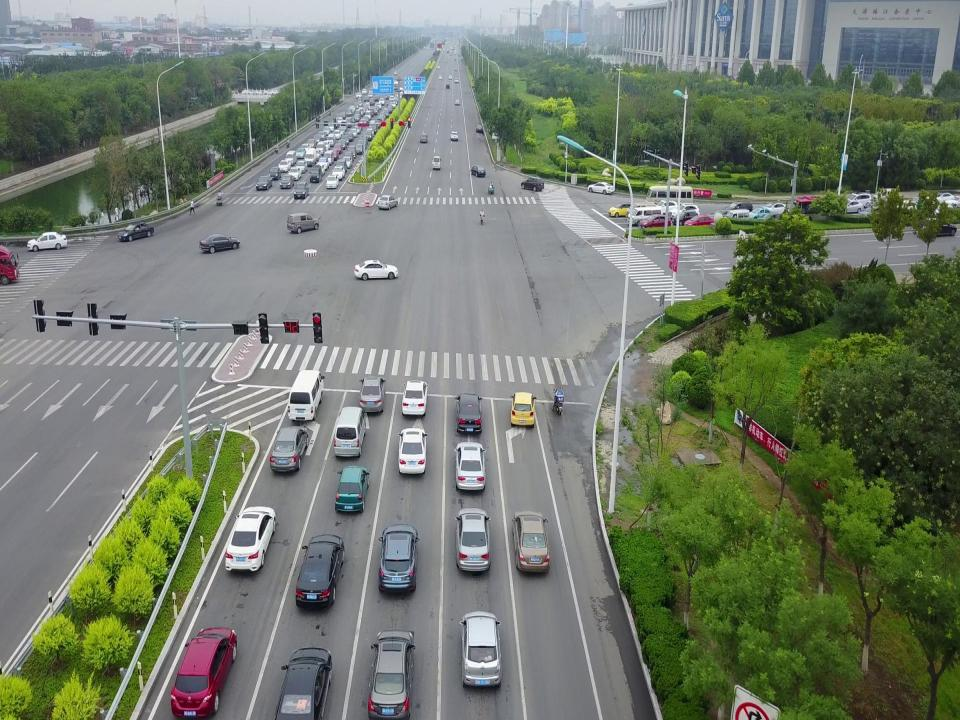bus: (645, 185, 693, 210)
car: (171, 627, 237, 718), (368, 629, 416, 720), (274, 646, 332, 720), (296, 534, 344, 611), (225, 506, 276, 573), (459, 611, 502, 688), (378, 523, 420, 594), (454, 507, 492, 571), (512, 510, 550, 573), (269, 425, 309, 472), (335, 466, 370, 514), (454, 441, 486, 491), (397, 428, 429, 475), (454, 393, 483, 434), (358, 375, 386, 414), (401, 379, 429, 417), (509, 391, 537, 428), (353, 260, 399, 282), (199, 233, 241, 254), (26, 231, 68, 252), (118, 221, 154, 242), (920, 218, 957, 237), (668, 204, 700, 224), (638, 214, 672, 232), (706, 209, 738, 228), (858, 204, 890, 222), (684, 213, 715, 231), (652, 198, 682, 216), (723, 201, 754, 218), (608, 202, 641, 217), (761, 202, 790, 219), (671, 210, 701, 226), (747, 207, 775, 224), (845, 192, 871, 210), (837, 199, 864, 216), (587, 180, 614, 195), (520, 177, 544, 192), (378, 194, 398, 211), (255, 174, 273, 190), (293, 181, 309, 199), (309, 164, 323, 183), (331, 164, 345, 181), (280, 174, 294, 189), (325, 174, 339, 189), (268, 166, 282, 181), (294, 159, 308, 174), (470, 165, 486, 178), (288, 166, 302, 180), (316, 156, 330, 170), (334, 158, 348, 172), (278, 158, 291, 172), (357, 135, 369, 148), (341, 155, 352, 169), (295, 146, 307, 158), (299, 142, 311, 154), (314, 163, 325, 176), (326, 132, 336, 146), (332, 143, 344, 154), (312, 148, 322, 161), (347, 144, 356, 158), (344, 150, 354, 162), (329, 148, 339, 160), (320, 139, 330, 151), (354, 143, 364, 155), (306, 138, 316, 149), (312, 133, 322, 144), (339, 134, 349, 145), (338, 139, 348, 149), (317, 130, 325, 141), (450, 131, 458, 141), (476, 124, 484, 133), (454, 99, 460, 106), (454, 78, 460, 84), (446, 84, 450, 90), (438, 74, 442, 80), (448, 75, 452, 80), (454, 66, 458, 71), (436, 65, 440, 69)
van: (287, 370, 325, 421), (333, 406, 367, 458), (626, 205, 664, 227), (286, 212, 320, 234), (625, 202, 657, 220), (722, 209, 750, 227), (872, 187, 898, 204), (304, 147, 317, 167), (285, 149, 297, 166), (323, 150, 335, 166), (432, 154, 442, 170), (316, 141, 326, 155), (420, 133, 428, 143)
